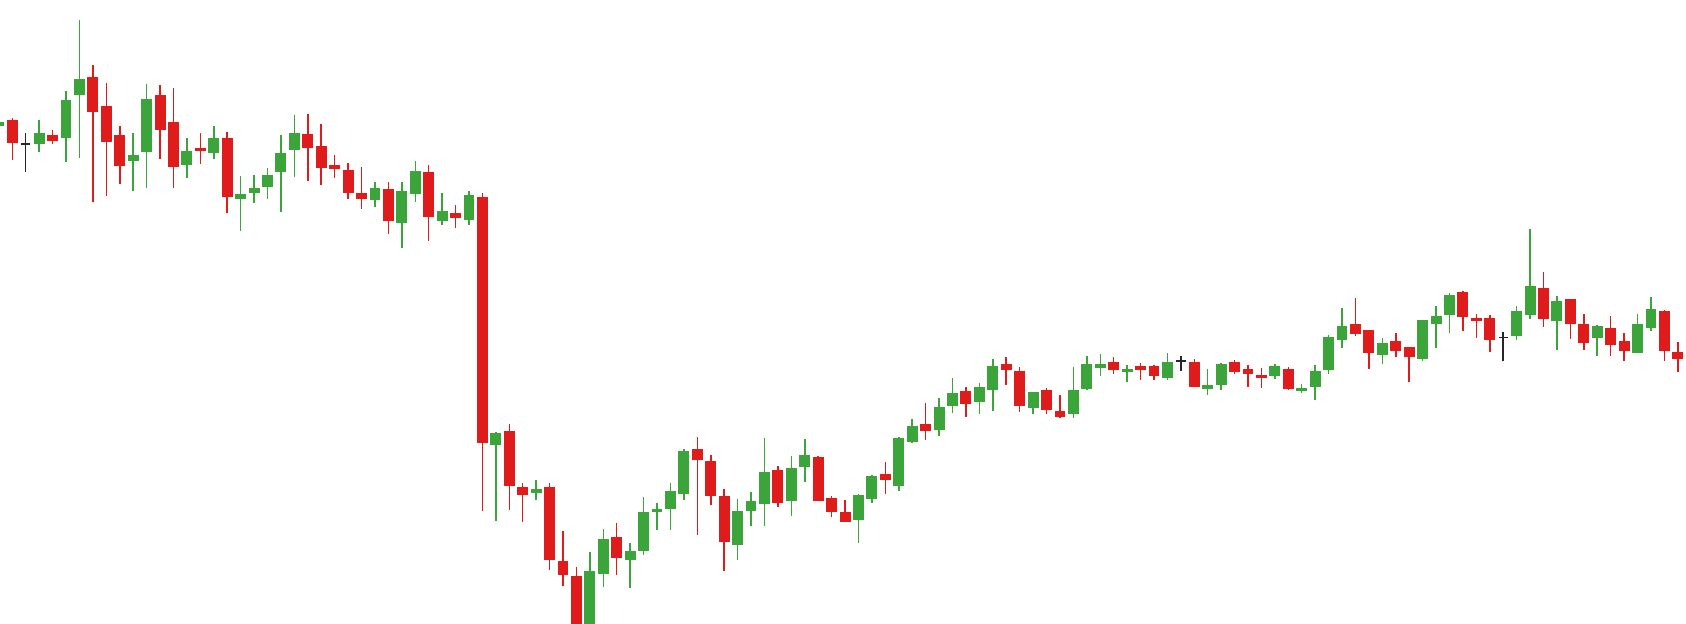buy: (754, 452, 865, 552)
sell: (208, 112, 315, 195)
